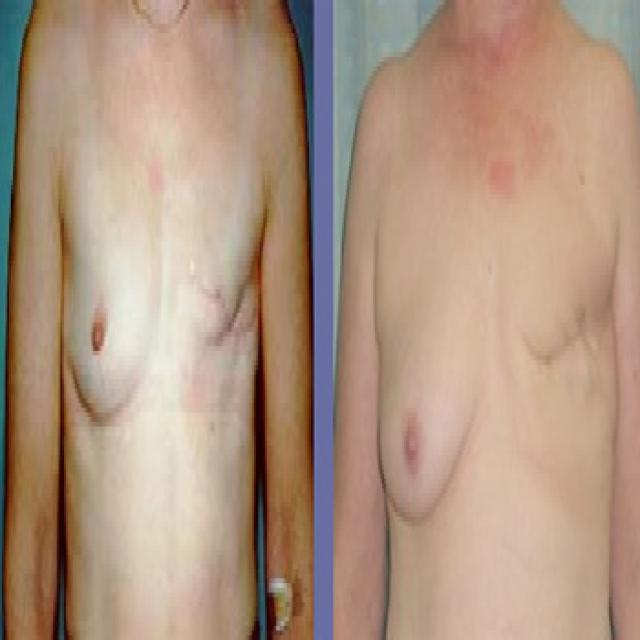Seno herido: (495, 278, 618, 556), (166, 187, 267, 455)
Seno ileso: (373, 278, 489, 550), (56, 185, 161, 452)
